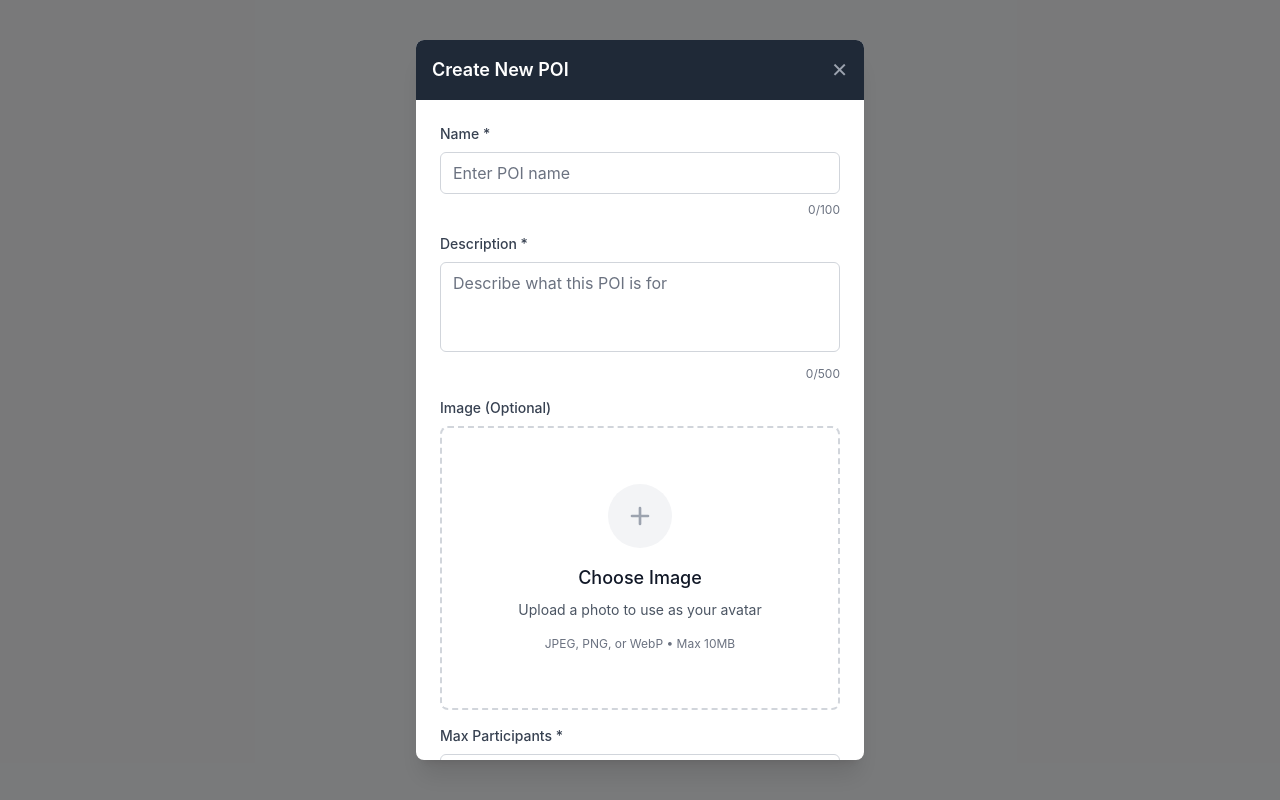
Test case: POICreationModal › should show real-time character count for name and description
Type "Test POI" into the field labelled "Name *" at (640, 173), box top-left (440, 152), bottom-right (840, 194)
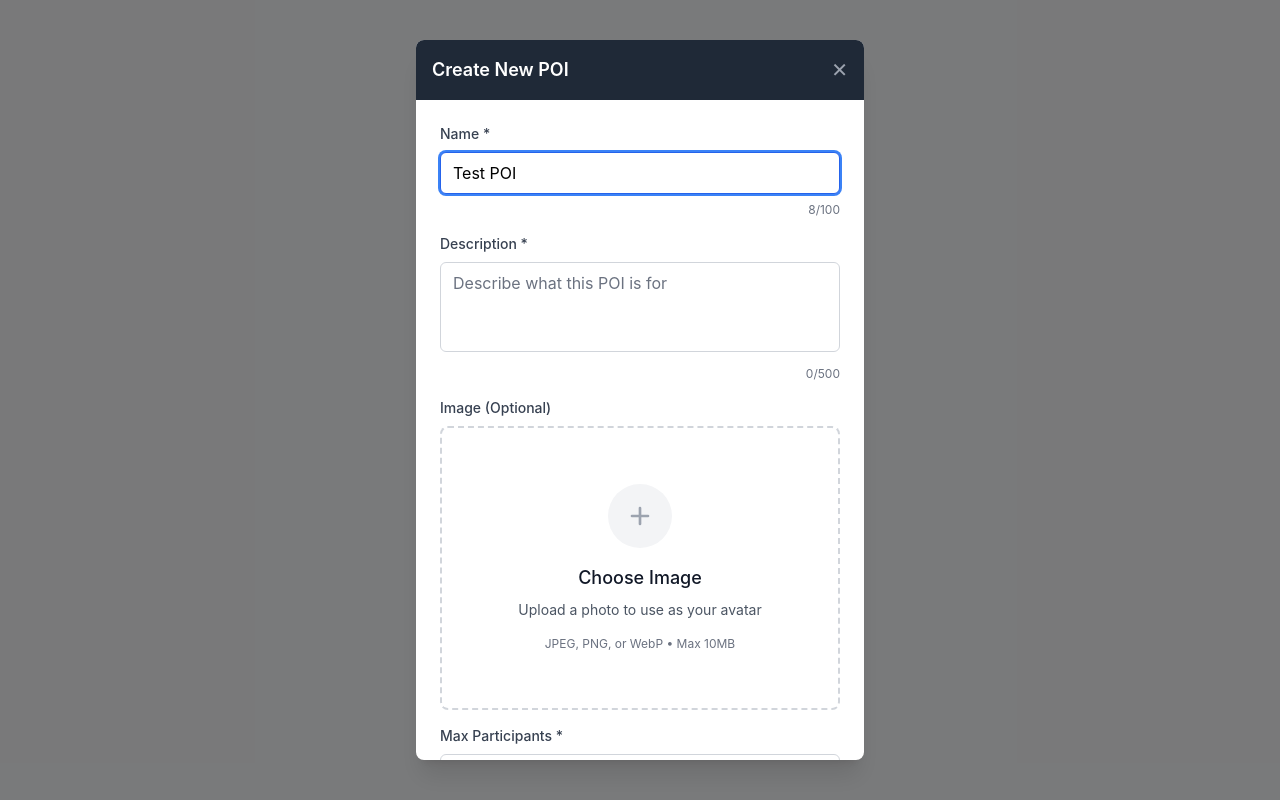
Expected: the text "8/100" is shown, top-left (808, 202), bottom-right (840, 218)
Type "Test description" into the text box labelled "Description *" at (640, 307), box top-left (440, 262), bottom-right (840, 352)
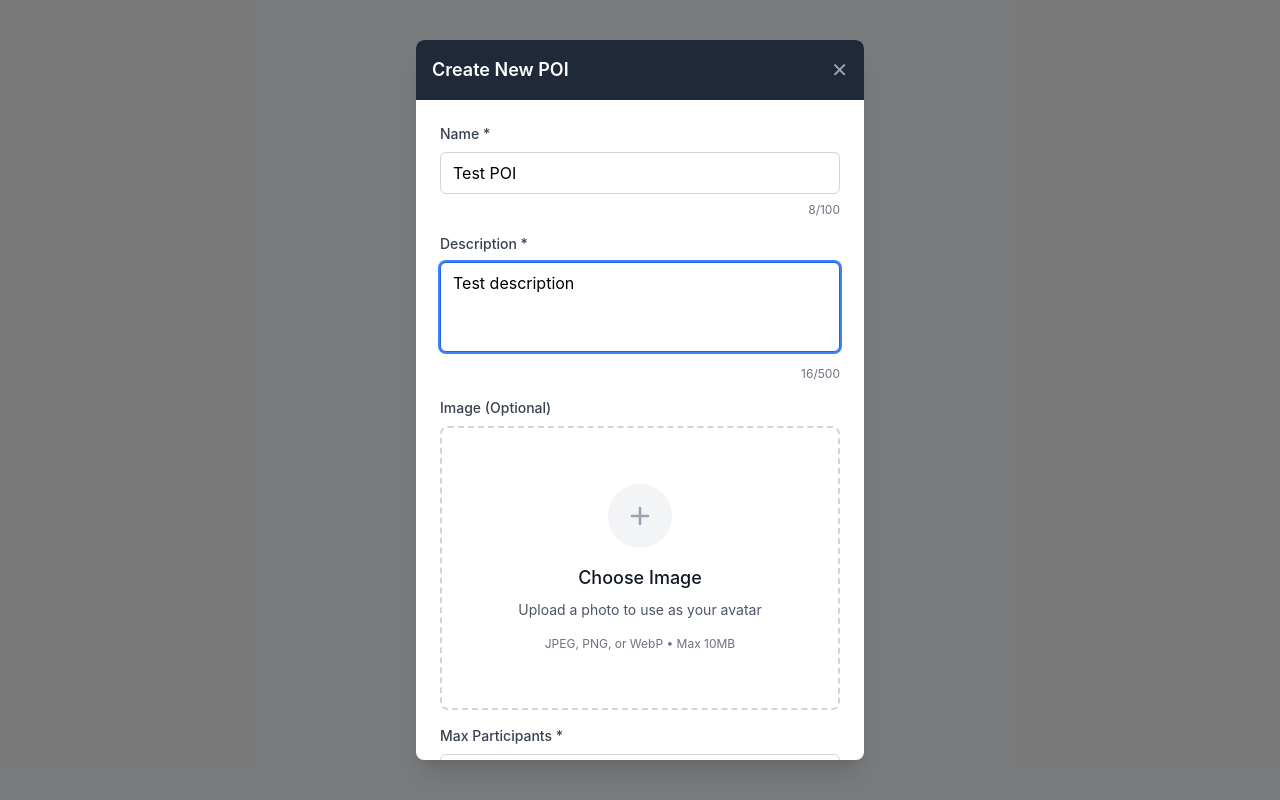
Expected: the text "16/500" is shown, top-left (801, 366), bottom-right (840, 382)
